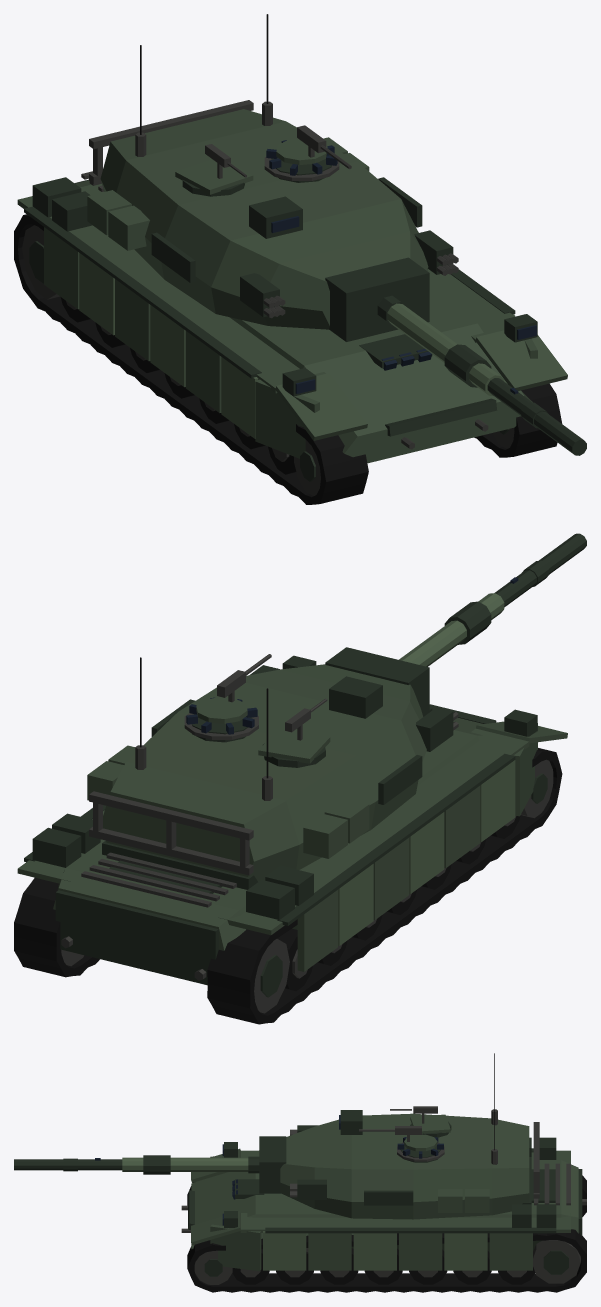
Rendered from m1-abrams1.fbx.
3 renders of one model, top to bottom at view 1: azimuth 30°, elevation 25°; view 2: azimuth 150°, elevation 25°; view 3: azimuth 270°, elevation 25°, orthographic. The views are drawn at different scales.
Visible parts, largest first — view 1: Chasis, Torreta; view 2: Chasis, Torreta; view 3: Chasis, Torreta.
Part boxes in pixels (<box>): Chasis: <box>14,171,567,504</box>; Torreta: <box>87,14,586,455</box>; Chasis: <box>14,655,567,1024</box>; Torreta: <box>87,533,586,881</box>; Chasis: <box>181,1137,586,1292</box>; Torreta: <box>14,1053,539,1219</box>.
Size of the model in its own units: 3.97 by 4.08 by 11.62.
